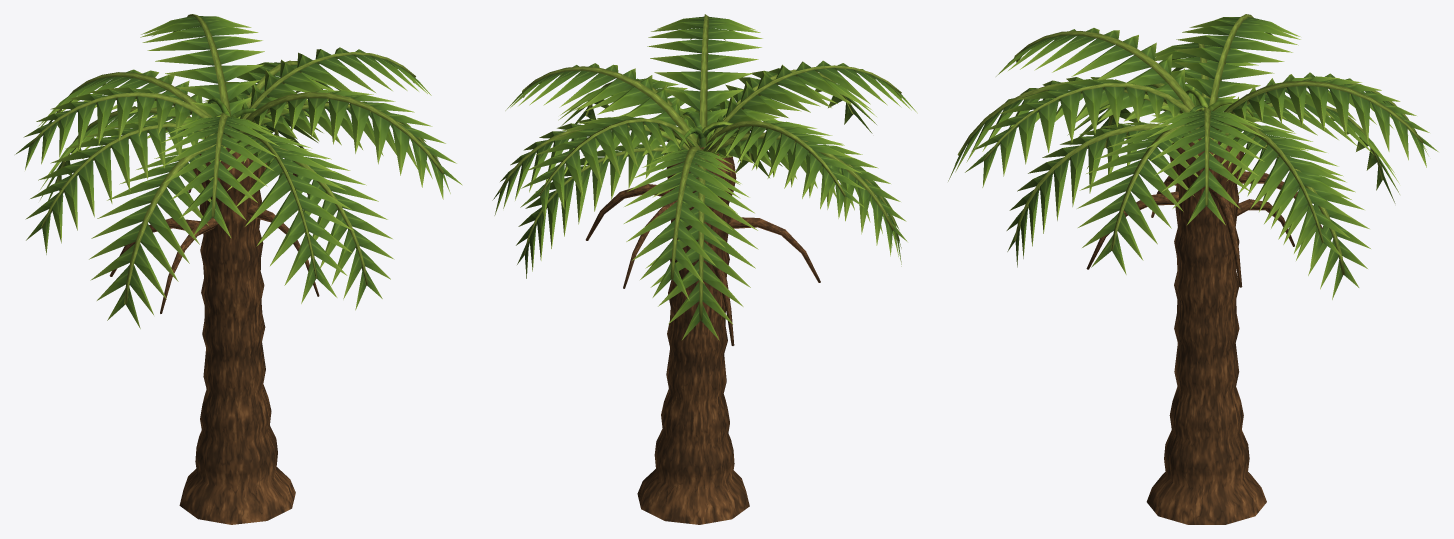
Rendered from fougere_arbre_2.glb.
3 views of the same model, side by side, from view 1: azimuth 30°, elevation 25°; view 2: azimuth 150°, elevation 25°; view 3: azimuth 270°, elevation 25° (orthographic). The views are drawn at different scales.
Visible parts, largest first — view 1: fougere_arbre_2; view 2: fougere_arbre_2; view 3: fougere_arbre_2.
Part boxes in pixels (x1,y1,x2,y2): fougere_arbre_2: (15, 14, 462, 524); fougere_arbre_2: (492, 14, 917, 524); fougere_arbre_2: (948, 14, 1438, 524).
Bounding box in the file's own units: 3.16 × 3.33 × 3.37.
Materials: 3 (3 with a texture image).
